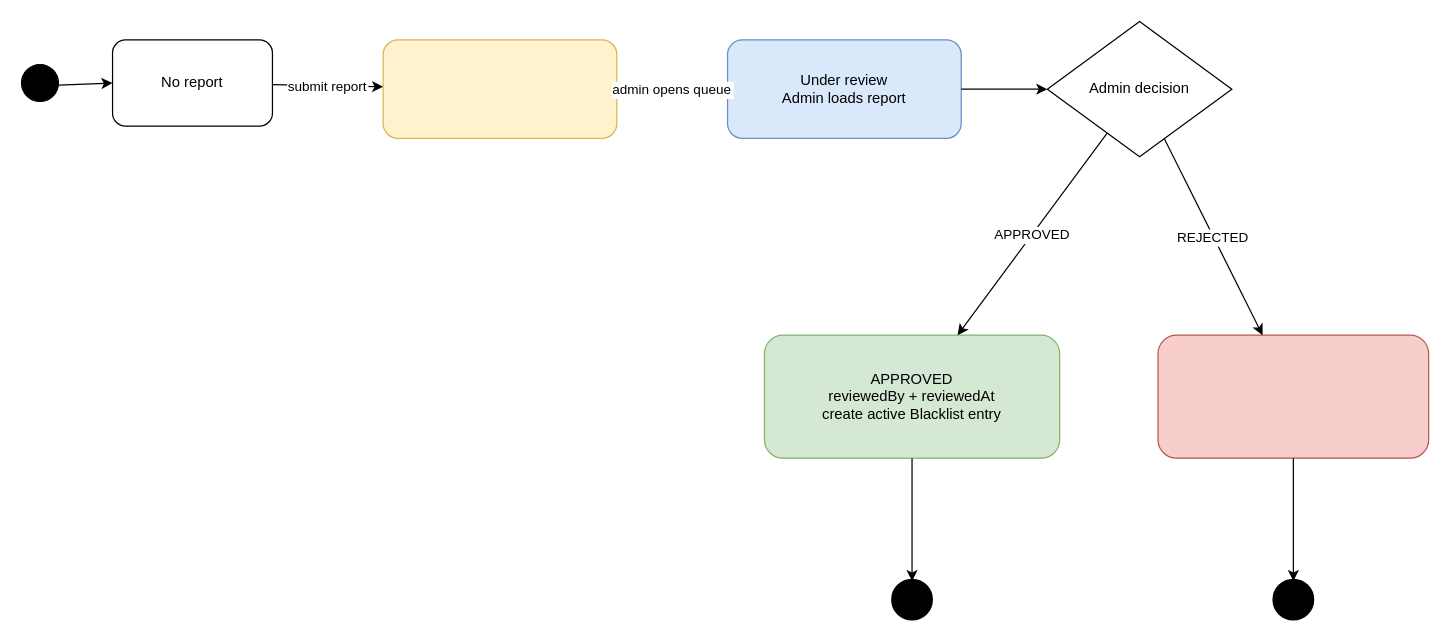
The diagram is 1450 pixels wide and 642 high, and some of its shapes have lost their labels. The centre of each missing label's shape, as x and y in pixels:
"PENDING User submits URL + reason" goes at (x=499, y=88).
"REJECTED reviewedBy + reviewedAt save adminRemark" goes at (x=1293, y=396).
